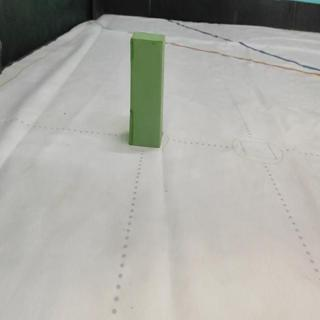greenbox: (129, 31, 166, 149)
